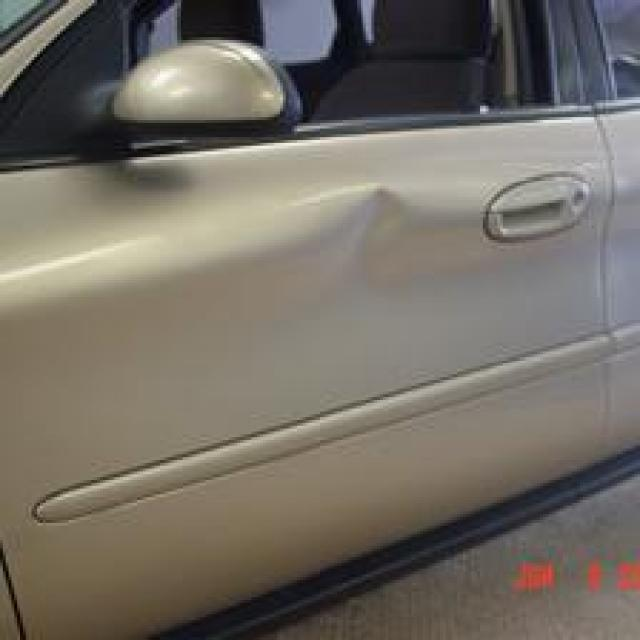damaged: (334, 188, 637, 288)
